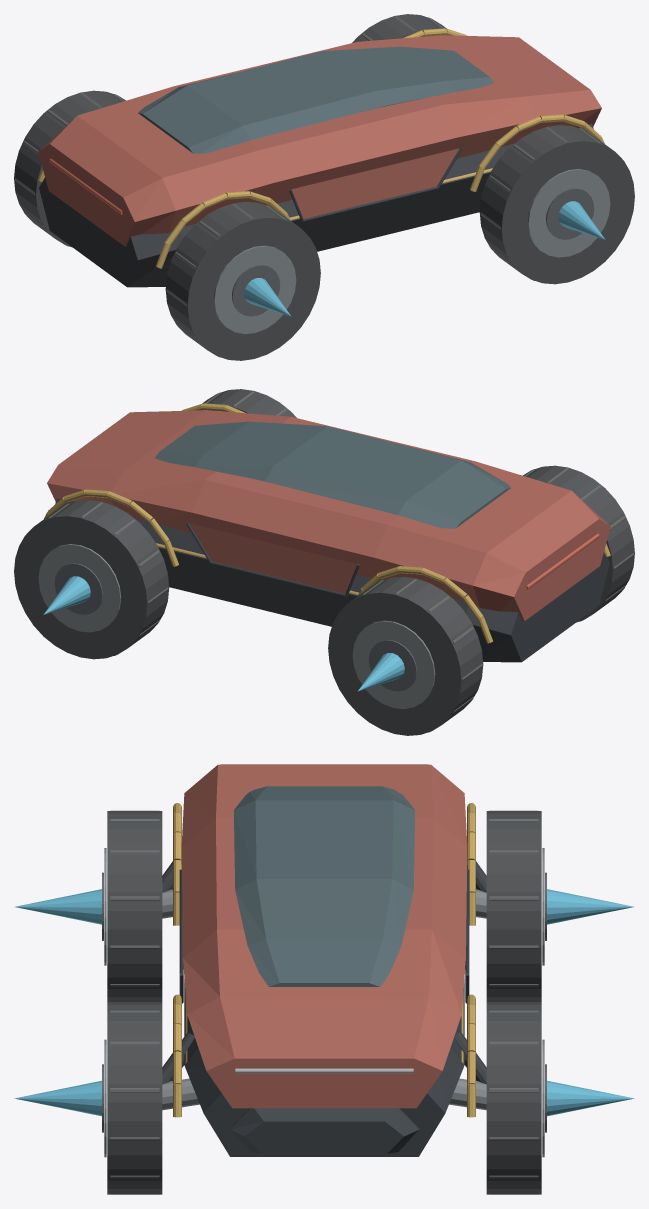
File: maxhog_red_rig.glb
The picture shows the model from 3 angles, top to bottom: view 1: azimuth 30°, elevation 25°; view 2: azimuth 150°, elevation 25°; view 3: azimuth 270°, elevation 25°; orthographic projection. The views are drawn at different scales.
Parts seen in each view (by area): view 1: body_shell_1, glass_canopy_2, rear_right__tires_20, front_right__tires_24, lower_chassis_0, door_panel_6, rear_left__tires_10, front_right__wheel_hubs_25, rear_right__wheel_hubs_21, wheel_arch_9, front_left__tires_16, rear_right__wheel_centers_22 (+4 smaller); view 2: body_shell_1, glass_canopy_2, rear_left__tires_10, front_left__tires_16, lower_chassis_0, door_panel_6, rear_right__tires_20, front_left__wheel_hubs_17, rear_left__wheel_hubs_11, wheel_arch_9, front_right__tires_24, rear_left__wheel_centers_12 (+4 smaller); view 3: body_shell_1, glass_canopy_2, rear_left__tires_10, rear_right__tires_20, front_left__tires_16, front_right__tires_24, front_bumper_3, lower_chassis_0, wheel_arch_9, suspension_arm_13, flame_rear_left, flame_rear_right (+9 smaller).
Boxes of the visible parts, <box> form: body_shell_1: <box>38,35,601,246</box>; glass_canopy_2: <box>138,46,493,153</box>; rear_right__tires_20: <box>165,201,320,360</box>; front_right__tires_24: <box>479,125,634,284</box>; lower_chassis_0: <box>39,124,593,287</box>; door_panel_6: <box>291,148,459,218</box>; rear_left__tires_10: <box>14,90,125,247</box>; front_right__wheel_hubs_25: <box>527,169,610,257</box>; rear_right__wheel_hubs_21: <box>213,245,296,333</box>; wheel_arch_9: <box>38,28,604,268</box>; front_left__tires_16: <box>352,14,446,42</box>; rear_right__wheel_centers_22: <box>232,265,280,316</box>; body_shell_1: <box>47,410,610,621</box>; glass_canopy_2: <box>155,421,510,528</box>; rear_left__tires_10: <box>328,576,483,735</box>; front_left__tires_16: <box>14,500,169,659</box>; lower_chassis_0: <box>55,498,609,662</box>; door_panel_6: <box>189,523,357,593</box>; rear_right__tires_20: <box>523,465,634,622</box>; front_left__wheel_hubs_17: <box>38,544,121,632</box>; rear_left__wheel_hubs_11: <box>352,620,435,708</box>; wheel_arch_9: <box>44,403,610,643</box>; front_right__tires_24: <box>202,389,296,417</box>; rear_left__wheel_centers_12: <box>368,640,416,691</box>; body_shell_1: <box>181,764,467,1108</box>; glass_canopy_2: <box>234,786,414,986</box>; rear_left__tires_10: <box>486,811,541,1002</box>; rear_right__tires_20: <box>107,811,162,1002</box>; front_left__tires_16: <box>486,1002,541,1194</box>; front_right__tires_24: <box>107,1002,162,1194</box>; front_bumper_3: <box>229,1108,419,1153</box>; lower_chassis_0: <box>184,979,464,1156</box>; wheel_arch_9: <box>173,803,475,1117</box>; suspension_arm_13: <box>162,889,486,1110</box>; flame_rear_left: <box>547,889,634,924</box>; flame_rear_right: <box>14,889,101,924</box>.
Size of the model in its own units: 5.04 by 1.81 by 4.52.
